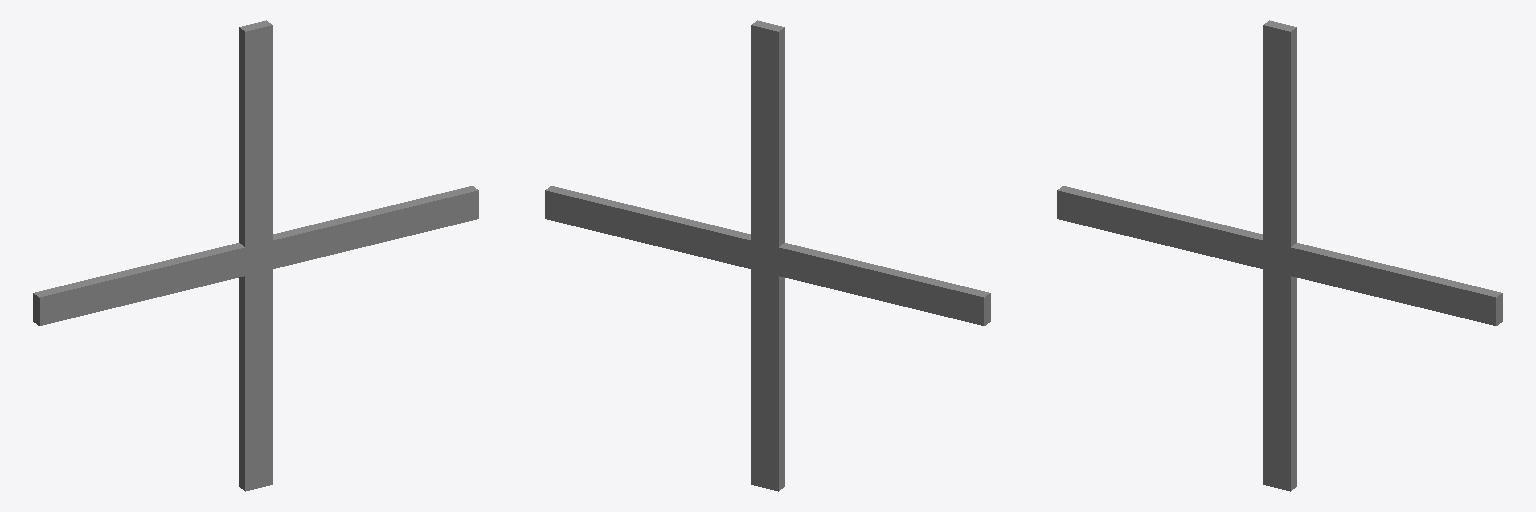
URDF robot description (blade):
<robot name="blade" >
    <link name="body">
        <inertial>
            <origin rpy="0 0 0" xyz="0.0 0.0 0.0"/>
            <mass value="1.0"/>
            <inertia ixx="1.0" ixy="0.0" ixz="0.0" iyy="1.0" iyz="0.0" izz="1.0"/>
        </inertial>
        <visual>
            <origin rpy="0 0 0" xyz="0.0 0.0 0.0"/>
            <geometry name="blade_visual">
                <mesh filename="blade.obj" scale="0.1 0.1 0.1"/>
            </geometry>
            <material name="LightGrey"/>
        </visual>
        <collision>
            <origin rpy="0 0 0" xyz="0.0 0.0 0.0"/>
            <geometry name="blade_collision">
                <mesh filename="blade.obj" scale="0.1 0.1 0.1"/>
            </geometry>
        </collision>
    </link>
        
    <material name="Blue">
        <color rgba="0.0 0.0 0.8 1.0"/>
    </material>
    <material name="Green">
        <color rgba="0.0 0.8 0.0 1.0"/>
    </material>
    <material name="Grey">
        <color rgba="0.2 0.2 0.2 1.0"/>
    </material>
    <material name="LightGrey">
        <color rgba="0.6 0.6 0.6 1.0"/>
    </material>
    <material name="Red">
        <color rgba="0.8 0.0 0.0 1.0"/>
    </material>
    <material name="White">
        <color rgba="1.0 1.0 1.0 1.0"/>
    </material>
</robot>

--- Render facts (derived) ---
Views: 3 orthographic renders of the robot side by side, from view 1: azimuth 30°, elevation 25°; view 2: azimuth 150°, elevation 25°; view 3: azimuth 330°, elevation 25°.
Model blade with 1 links and 0 joints (none), rooted at body, posed all joints at 0.
Visible links, largest first — view 1: body; view 2: body; view 3: body.
Boxes of the visible links, x1=… form: body: x1=33, y1=20, x2=478, y2=491; body: x1=545, y1=20, x2=990, y2=491; body: x1=1057, y1=20, x2=1502, y2=491.
Bounding box of the posed robot: 0.8 × 0.02 × 0.8 m (x, y, z).
Meshes: 1 distinct files referenced, 1 mesh visuals loaded (1 OBJ).